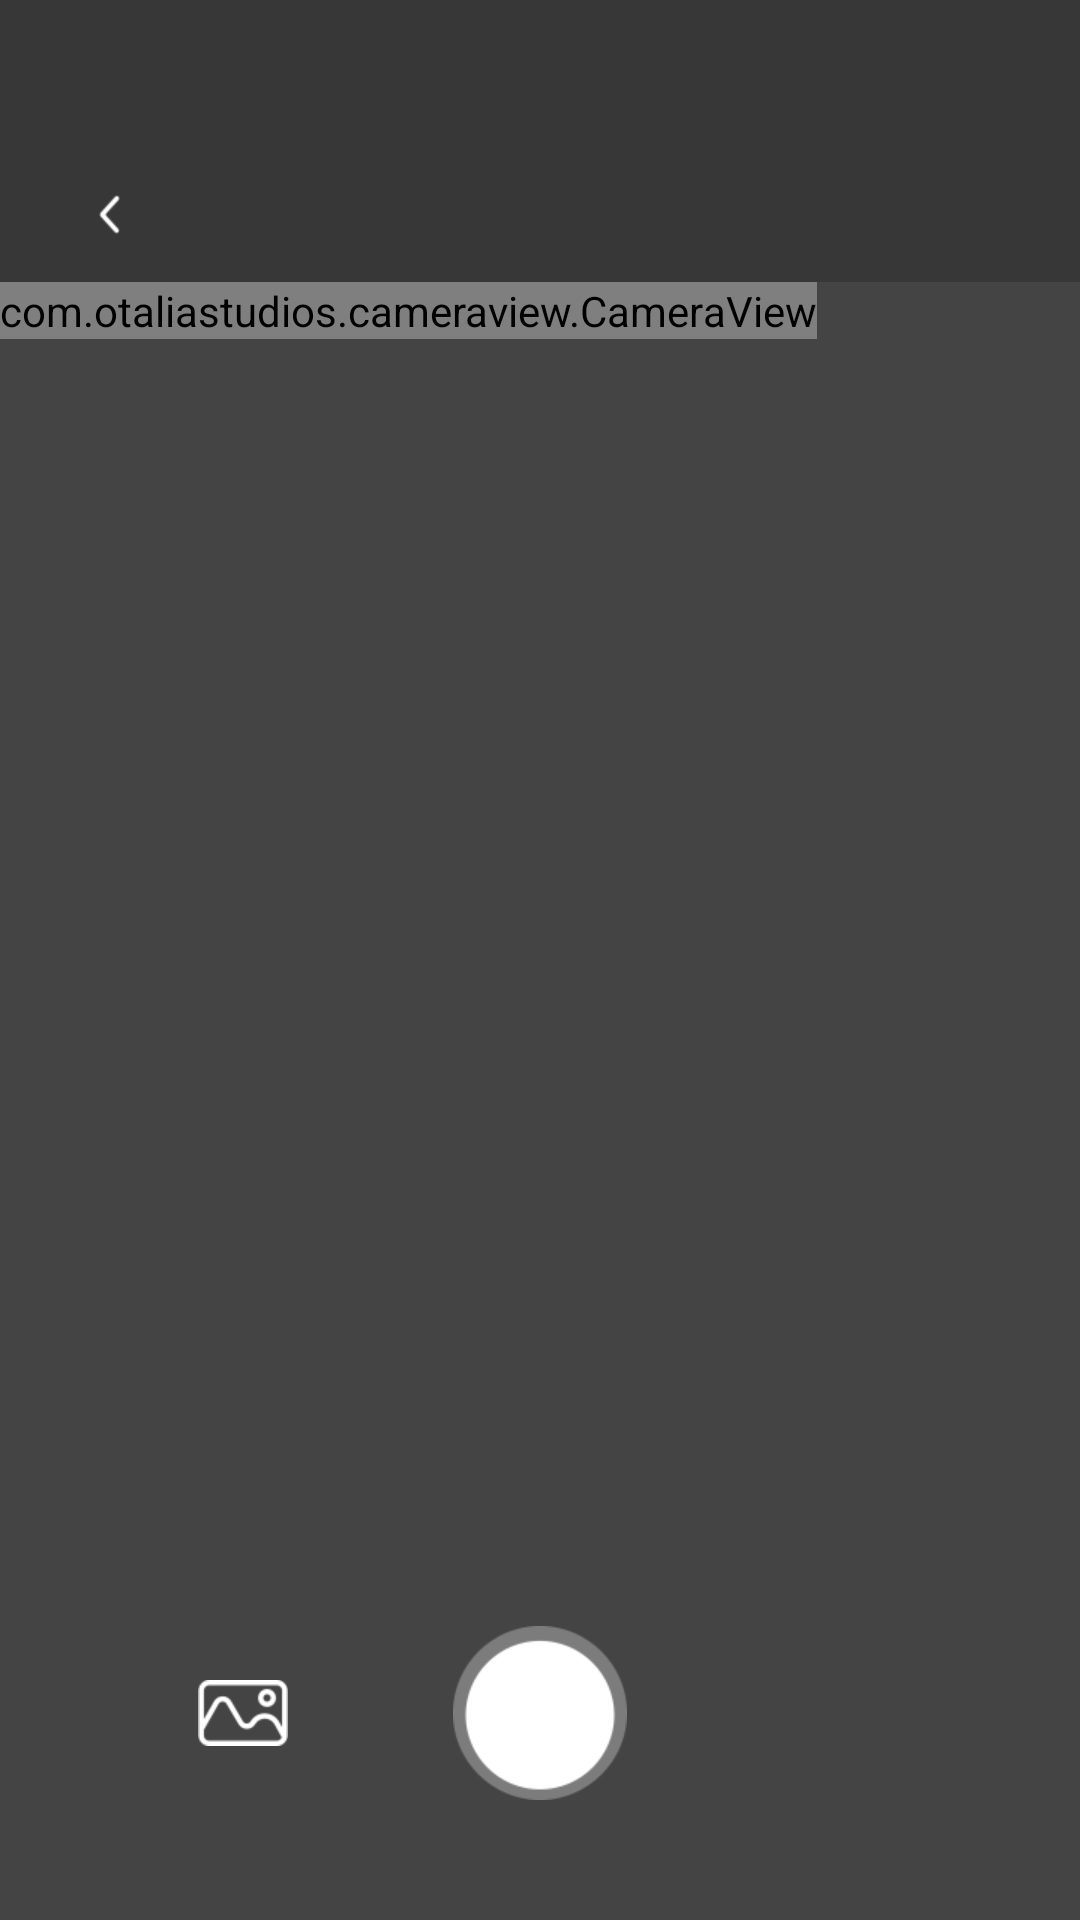

Named icons in this screenshot (1080px×1920px) and their bounding boxes, (x1, y1, x2, y2):
back: (99, 195, 120, 234)
xiangce: (198, 1680, 288, 1746)
